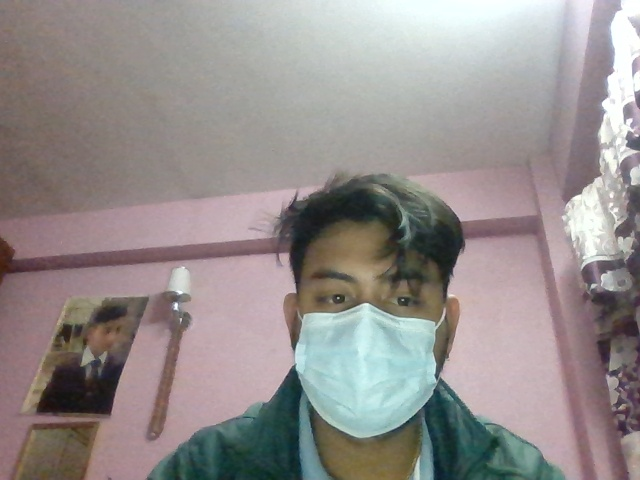mask: (281, 304, 456, 441)
